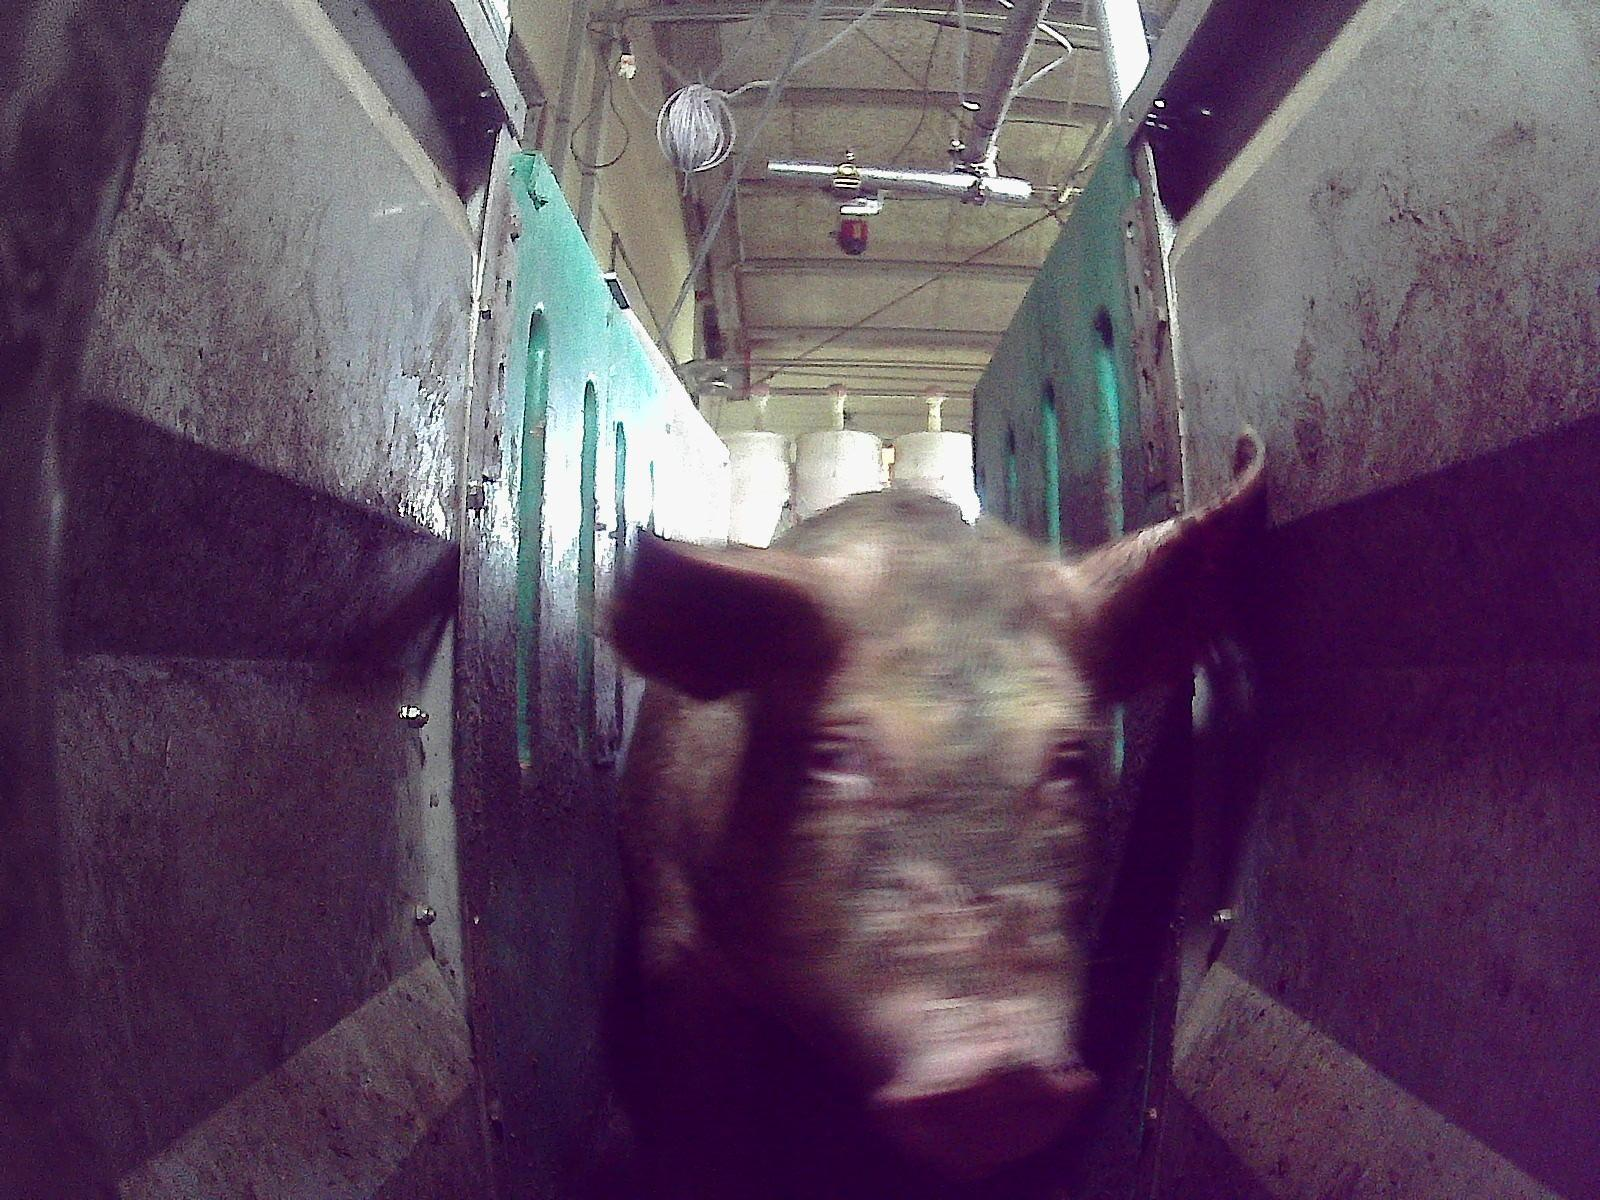Face: (738, 529, 1131, 1186)
